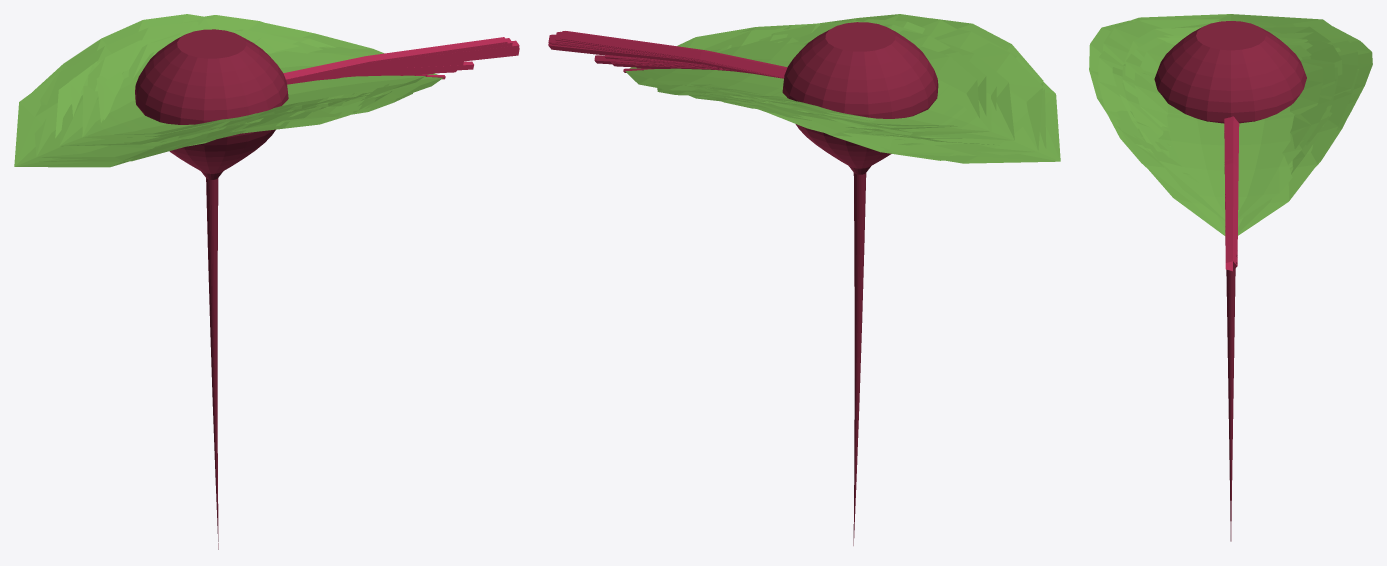
The model's file is beetroot_harvest_v22.articulated.glb.
The picture shows the model from 3 angles, left to right: view 1: azimuth 30°, elevation 25°; view 2: azimuth 150°, elevation 25°; view 3: azimuth 270°, elevation 25°; orthographic projection.
Visible parts, largest first — view 1: root, leaf10_link2, leaf01_link2, leaf09_link2, leaf00_link2, leaf08_link2, leaf07_link0, leaf06_link2, leaf07_link2, leaf05_link2, leaf00_link0, leaf12_link2 (+3 smaller); view 2: root, leaf01_link2, leaf10_link2, leaf00_link2, leaf09_link2, leaf08_link2, leaf11_link2, leaf00_link0, leaf12_link2, leaf04_link2, leaf11_link0, leaf06_link2 (+3 smaller); view 3: root, leaf01_link2, leaf10_link2, leaf00_link2, leaf08_link2, leaf12_link2, leaf09_link2, leaf05_link2, leaf11_link2, leaf07_link2, leaf00_link0, leaf06_link2 (+4 smaller).
Boxes of the visible parts, x1,y1,x2,y2 form: root: (135, 29, 288, 549); leaf10_link2: (14, 18, 445, 167); leaf01_link2: (59, 29, 427, 146); leaf09_link2: (82, 30, 389, 143); leaf00_link2: (33, 14, 391, 161); leaf08_link2: (39, 21, 385, 161); leaf07_link0: (286, 40, 519, 84); leaf06_link2: (87, 37, 371, 142); leaf07_link2: (55, 34, 370, 138); leaf05_link2: (103, 37, 332, 129); leaf00_link0: (287, 37, 507, 79); leaf12_link2: (69, 15, 412, 148); root: (782, 22, 938, 545); leaf01_link2: (642, 29, 1014, 145); leaf10_link2: (623, 23, 1060, 163); leaf00_link2: (689, 18, 1043, 160); leaf09_link2: (691, 30, 991, 136); leaf08_link2: (694, 29, 1046, 149); leaf11_link2: (760, 41, 979, 125); leaf00_link0: (560, 31, 783, 77); leaf12_link2: (657, 14, 957, 145); leaf04_link2: (751, 34, 986, 130); leaf11_link0: (578, 41, 787, 77); leaf06_link2: (698, 24, 996, 139); root: (1154, 21, 1306, 541); leaf01_link2: (1124, 27, 1337, 220); leaf10_link2: (1103, 14, 1359, 235); leaf00_link2: (1089, 20, 1372, 166); leaf08_link2: (1109, 19, 1358, 162); leaf12_link2: (1098, 39, 1358, 167); leaf09_link2: (1125, 37, 1331, 183); leaf05_link2: (1134, 45, 1311, 149); leaf11_link2: (1140, 41, 1323, 147); leaf07_link2: (1122, 26, 1332, 174); leaf00_link0: (1224, 123, 1239, 250); leaf06_link2: (1130, 35, 1342, 151).
Size of the model in its own units: 0.2032 by 0.1967 by 0.0986.
1 material, 1 textured.
